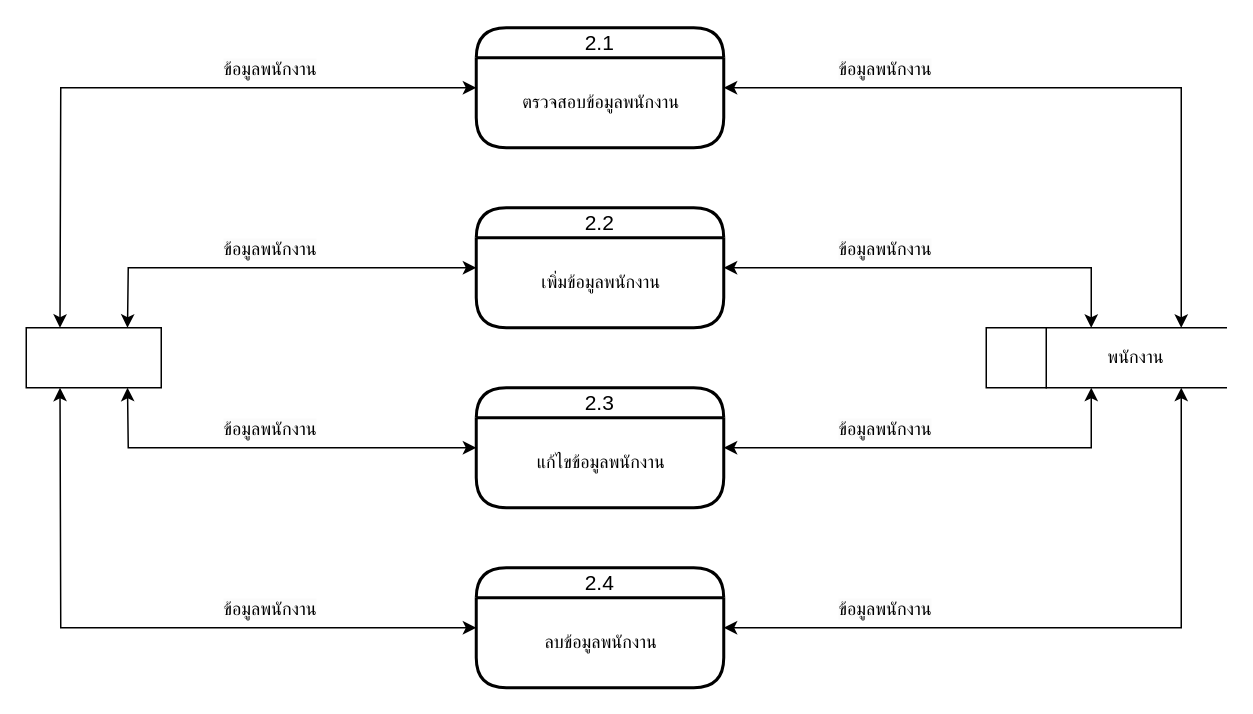
The diagram is 1253 pixels wide and 714 high, and some of its shapes have lost their labels. The centre of each missing label's shape, as x and y in pixels:
D4: point (1015, 357)
ผู้ดูแลระบบ: point (93, 357)
